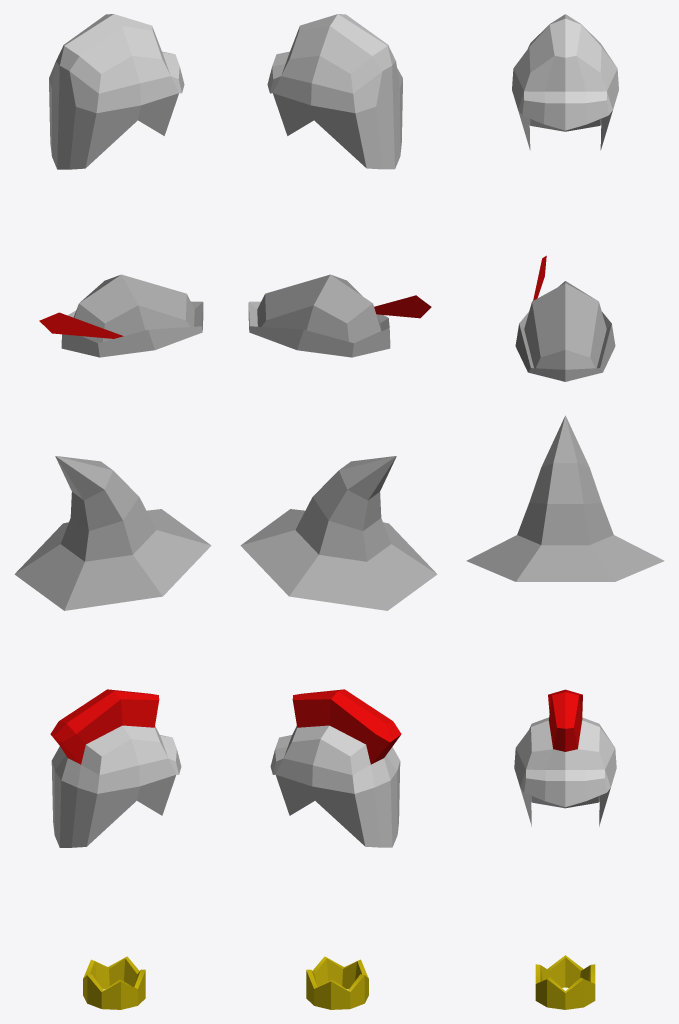
The model's file is LP_GoblinHats.fbx.
The picture shows the model from 3 angles, left to right: view 1: azimuth 30°, elevation 25°; view 2: azimuth 150°, elevation 25°; view 3: azimuth 270°, elevation 25°; orthographic projection.
Parts seen in each view (by area): view 1: pasted__pCone6, pCube16, pCube27, pCube21, pPipe6; view 2: pasted__pCone6, pCube16, pCube27, pCube21, pPipe6; view 3: pasted__pCone6, pCube27, pCube16, pCube21, pPipe6.
Boxes of the visible parts, x1,y1,x2,y2 form: pasted__pCone6: (14, 456, 211, 610); pCube16: (50, 689, 181, 847); pCube27: (49, 14, 184, 169); pCube21: (39, 274, 203, 357); pPipe6: (83, 956, 145, 1009); pasted__pCone6: (240, 456, 437, 610); pCube16: (270, 689, 401, 847); pCube27: (267, 14, 402, 169); pCube21: (248, 274, 431, 357); pPipe6: (306, 956, 368, 1009); pasted__pCone6: (466, 415, 664, 581); pCube27: (512, 14, 618, 150); pCube16: (514, 689, 616, 826); pCube21: (515, 255, 615, 381); pPipe6: (535, 955, 595, 1009).
Size of the model in its own units: 0.7926 by 4.28 by 0.7897.
